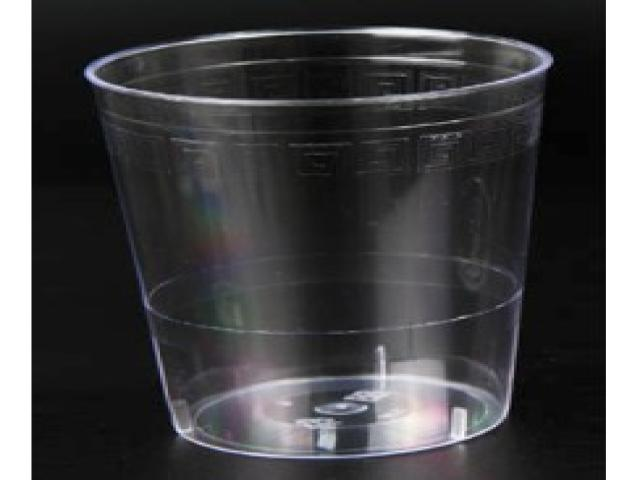cup: (85, 27, 552, 458)
